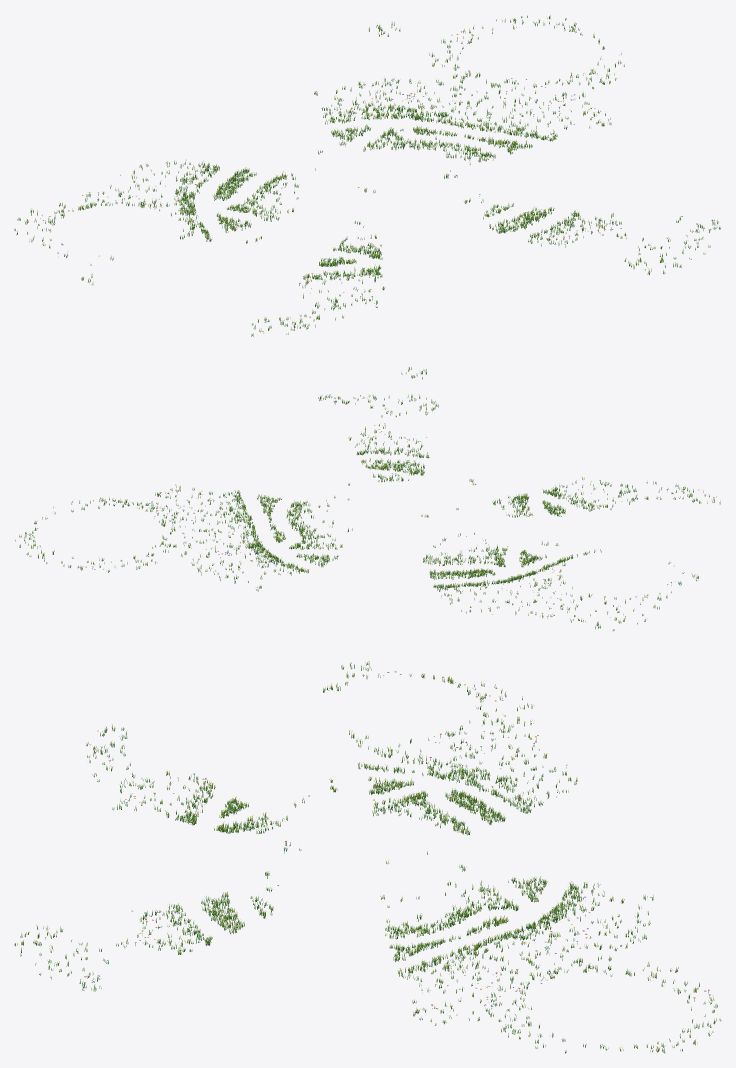
3 renders of one model, top to bottom at view 1: azimuth 30°, elevation 25°; view 2: azimuth 150°, elevation 25°; view 3: azimuth 270°, elevation 25°, orthographic. The views are drawn at different scales.
Parts seen in each view (by area): view 1: co_2_3, co_5_3, co_4_2, co_5_2, co_2_5, co_2_2, co_5_5, co_4_5; view 2: co_2_3, co_5_3, co_4_2, co_5_2, co_2_5, co_5_5, co_2_2, co_4_5; view 3: co_2_3, co_5_3, co_5_2, co_4_2, co_2_5, co_2_2, co_5_5, co_4_5.
Boxes of the visible parts, box(x1,y1,x2,y2) form: co_2_3: box(161, 177, 293, 236); co_5_3: box(435, 114, 544, 164); co_4_2: box(321, 97, 419, 149); co_5_2: box(379, 75, 510, 135); co_2_5: box(299, 256, 385, 314); co_2_2: box(131, 159, 246, 192); co_5_5: box(528, 207, 626, 242); co_4_5: box(489, 211, 567, 247); co_2_3: box(442, 539, 563, 586); co_5_3: box(215, 493, 320, 531); co_4_2: box(250, 536, 338, 575); co_5_2: box(166, 513, 284, 564); co_2_5: box(542, 477, 648, 516); co_5_5: box(348, 424, 413, 469); co_2_2: box(433, 571, 511, 613); co_4_5: box(380, 437, 429, 475); co_2_3: box(368, 758, 485, 819); co_5_3: box(385, 916, 484, 973); co_5_2: box(482, 912, 602, 969); co_4_2: box(481, 876, 600, 920); co_2_5: box(124, 770, 245, 820); co_2_2: box(481, 761, 577, 818); co_5_5: box(123, 917, 244, 954); co_4_5: box(131, 892, 238, 923).
Size of the model in its own units: 116 by 31.24 by 94.67.
